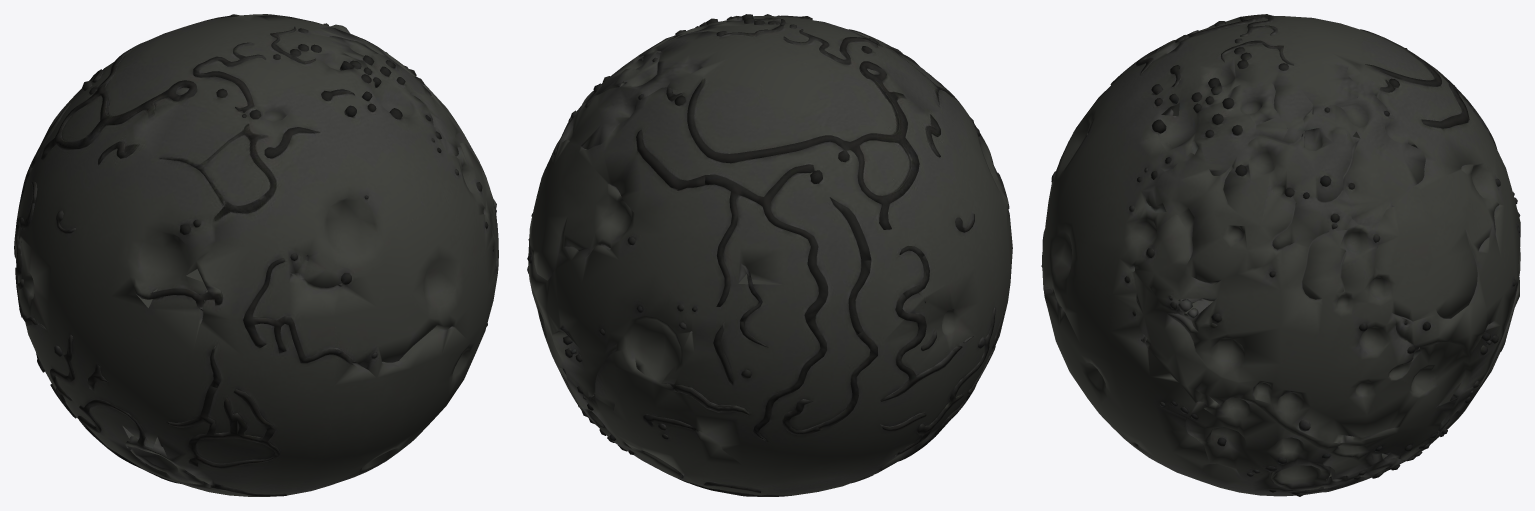
The model's file is walkable-planet.glb.
The picture shows the model from 3 angles, left to right: view 1: azimuth 30°, elevation 25°; view 2: azimuth 150°, elevation 25°; view 3: azimuth 270°, elevation 25°; orthographic projection.
Parts seen in each view (by area): view 1: tripo_node_60909c09-3e7c-4237-bab1-5691e49e4bf1; view 2: tripo_node_60909c09-3e7c-4237-bab1-5691e49e4bf1; view 3: tripo_node_60909c09-3e7c-4237-bab1-5691e49e4bf1.
Part boxes in pixels (bbox=[...]): tripo_node_60909c09-3e7c-4237-bab1-5691e49e4bf1: bbox=[14, 14, 498, 496]; tripo_node_60909c09-3e7c-4237-bab1-5691e49e4bf1: bbox=[527, 14, 1012, 496]; tripo_node_60909c09-3e7c-4237-bab1-5691e49e4bf1: bbox=[1041, 14, 1520, 496].
Bounding box in the file's own units: 0.9995 × 0.9976 × 0.9985.
Materials: 1 (1 with a texture image).
